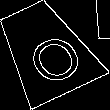O_NW: (11, 18, 81, 83)
